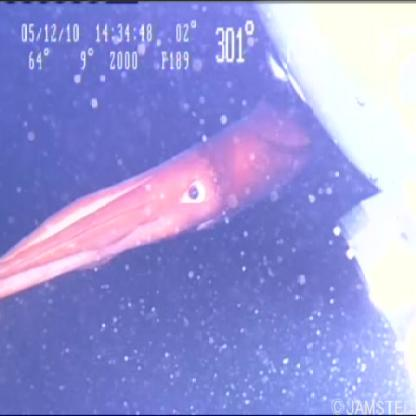Bio: (1, 102, 319, 302)
